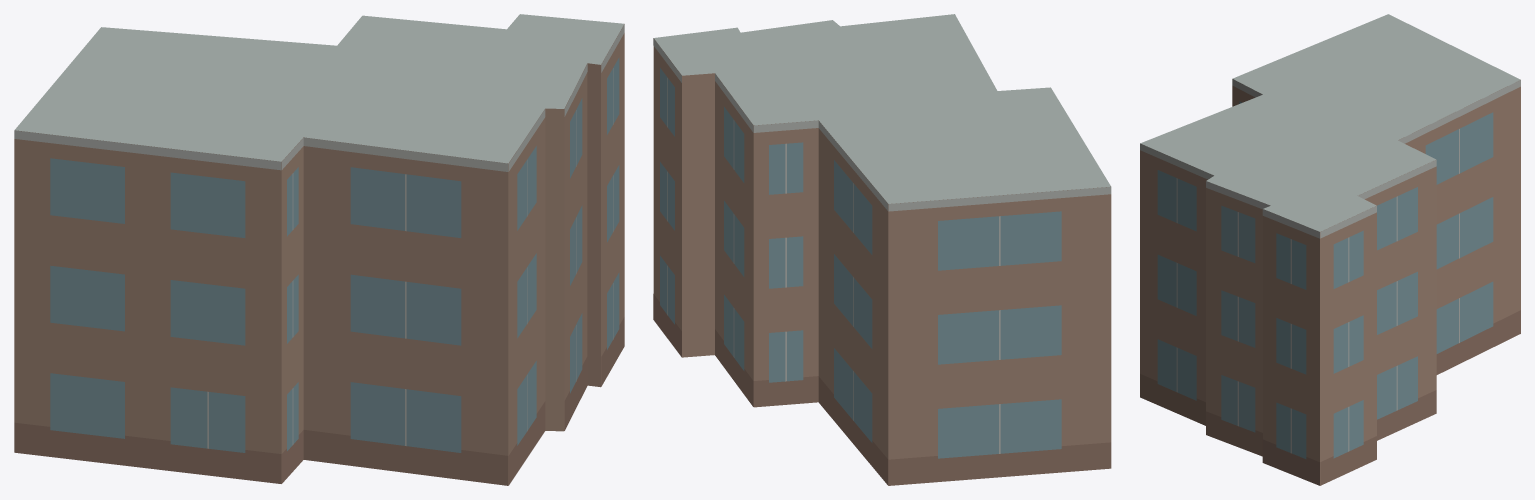
File: survey-upis-32468995.glb
The picture shows the model from 3 angles, left to right: view 1: azimuth 30°, elevation 25°; view 2: azimuth 150°, elevation 25°; view 3: azimuth 270°, elevation 25°; orthographic projection. The views are drawn at different scales.
Visible parts, largest first — view 1: survey-upis-32468995.tmp; view 2: survey-upis-32468995.tmp; view 3: survey-upis-32468995.tmp.
Boxes of the visible parts, <box> form: survey-upis-32468995.tmp: <box>14,14,624,485</box>; survey-upis-32468995.tmp: <box>653,14,1111,485</box>; survey-upis-32468995.tmp: <box>1140,14,1520,485</box>.
Size of the model in its own units: 16.75 by 9.1 by 12.37.
